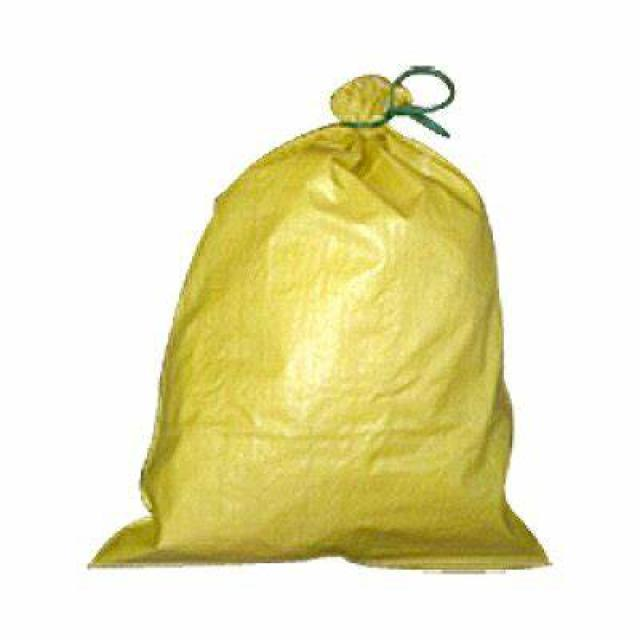waste: (124, 76, 548, 575)
